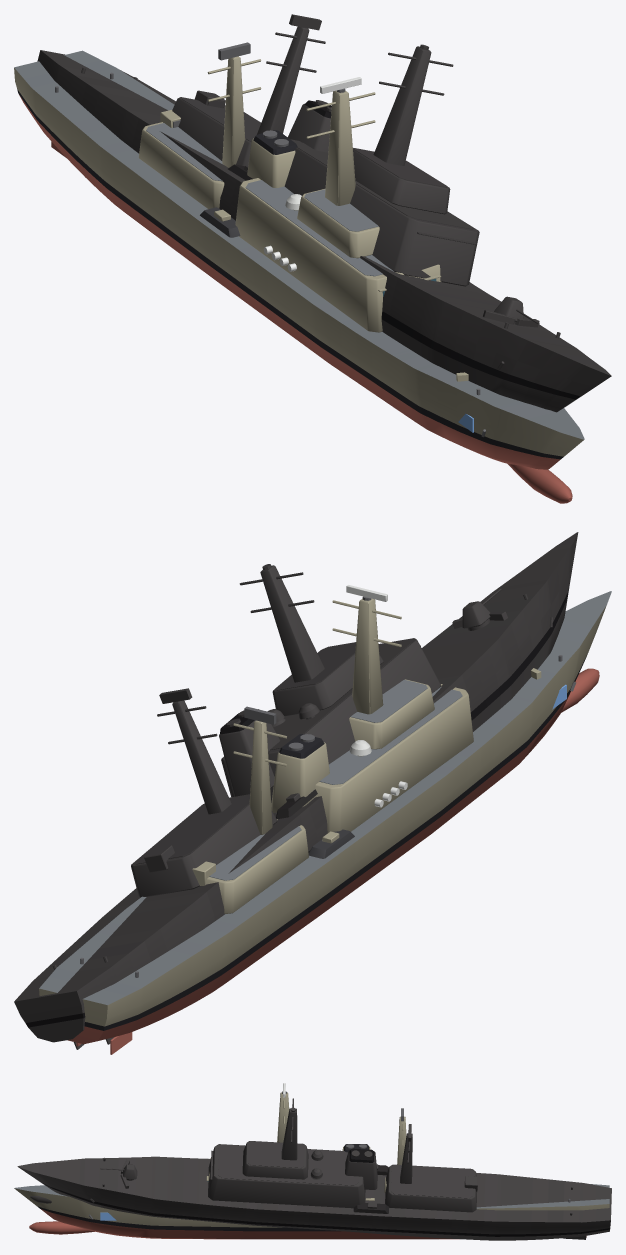
Rendered from corvette__minerva_class.glb.
3 renders of one model, top to bottom at view 1: azimuth 30°, elevation 25°; view 2: azimuth 150°, elevation 25°; view 3: azimuth 270°, elevation 25°, orthographic. The views are drawn at different scales.
Parts seen in each view (by area): view 1: Hull_Mesh, Wreck; view 2: Hull_Mesh, Wreck; view 3: Wreck, Hull_Mesh.
Part boxes in pixels (x1,y1,x2,y2): Hull_Mesh: [14, 42, 584, 503]; Wreck: [37, 14, 611, 412]; Hull_Mesh: [39, 591, 611, 1054]; Wreck: [14, 532, 578, 1049]; Wreck: [17, 1098, 611, 1240]; Hull_Mesh: [14, 1092, 609, 1239].
Size of what is drawn, in the model's own units: 16.8 by 25.53 by 91.03.
